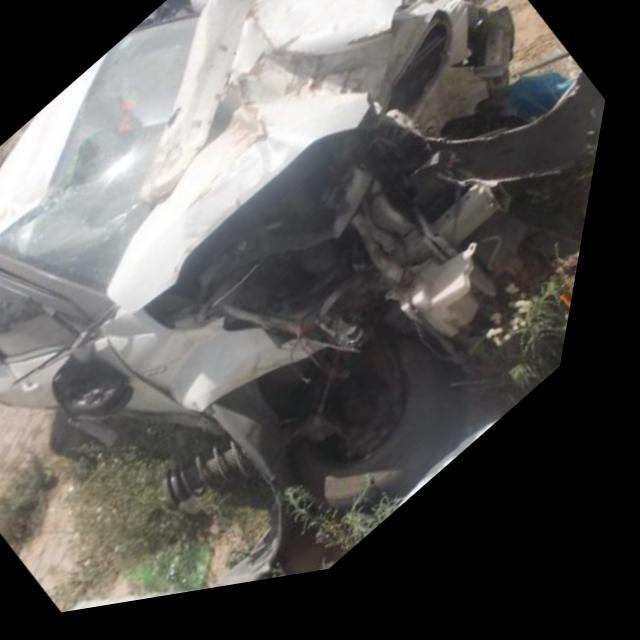glass shatter: (0, 94, 155, 260)
no part: (103, 0, 525, 434)
